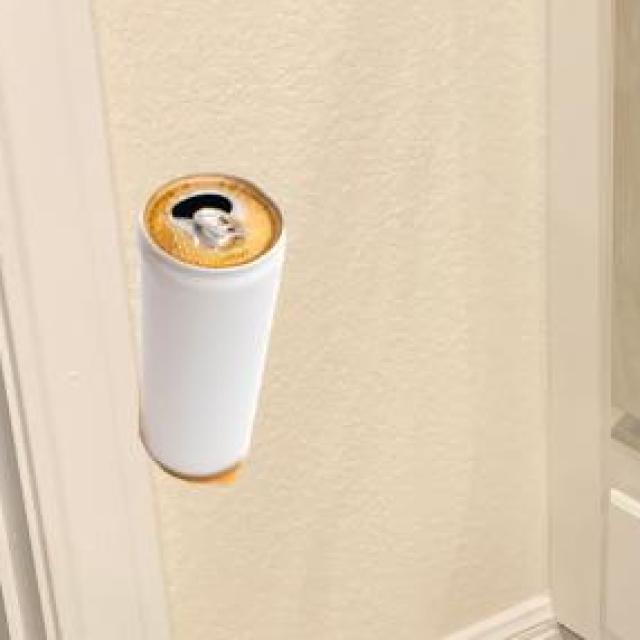logam: (142, 171, 288, 482)
